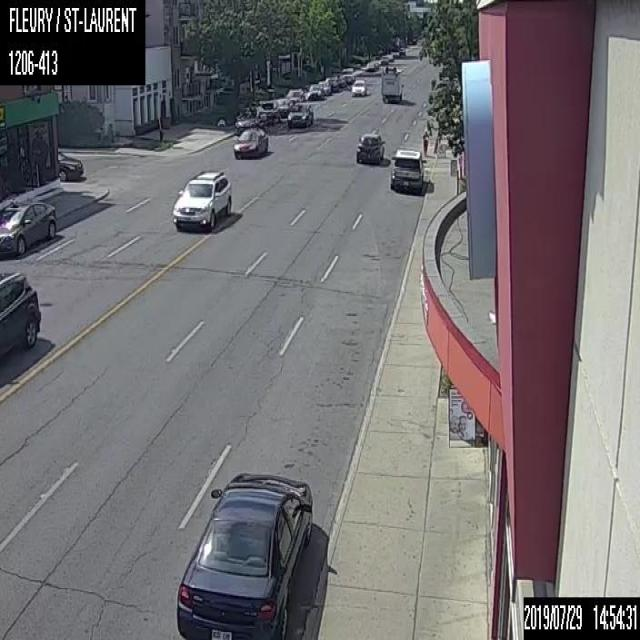pedestrian: (421, 127, 429, 156)
vehicle: (174, 473, 311, 639), (0, 267, 43, 365), (172, 168, 230, 231), (0, 199, 58, 257), (389, 147, 425, 193), (232, 125, 267, 159), (354, 131, 384, 165), (56, 147, 84, 181), (381, 65, 402, 104), (287, 101, 313, 128), (234, 105, 266, 126), (260, 100, 281, 124), (274, 97, 292, 116), (285, 88, 304, 103), (351, 80, 366, 96), (341, 67, 355, 84), (309, 83, 323, 98), (325, 75, 338, 91), (318, 80, 331, 95)
